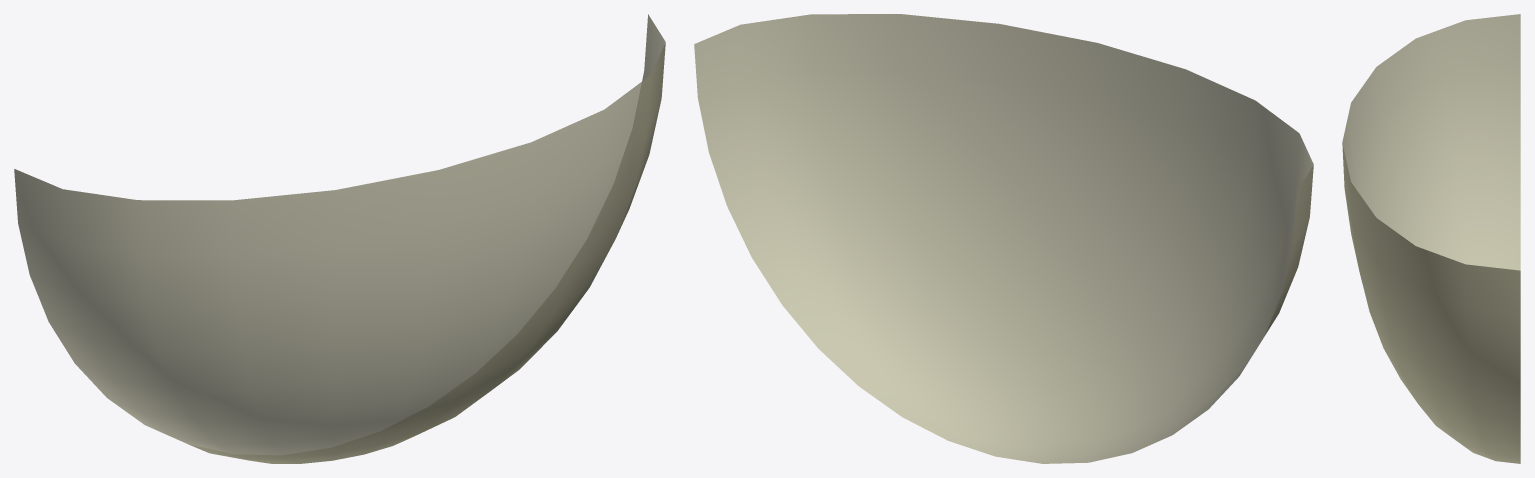
File: Wall_Lamp.fbx
3 views of the same model, side by side, from view 1: azimuth 30°, elevation 25°; view 2: azimuth 150°, elevation 25°; view 3: azimuth 270°, elevation 25° (orthographic). The views are drawn at different scales.
Parts seen in each view (by area): view 1: pSphere1; view 2: pSphere1; view 3: pSphere1.
Part boxes in pixels (bbox=[...]): pSphere1: bbox=[14, 14, 665, 463]; pSphere1: bbox=[694, 14, 1313, 463]; pSphere1: bbox=[1342, 14, 1520, 463].
Size of the model in its own units: 1.39 by 0.7483 by 0.4091.
